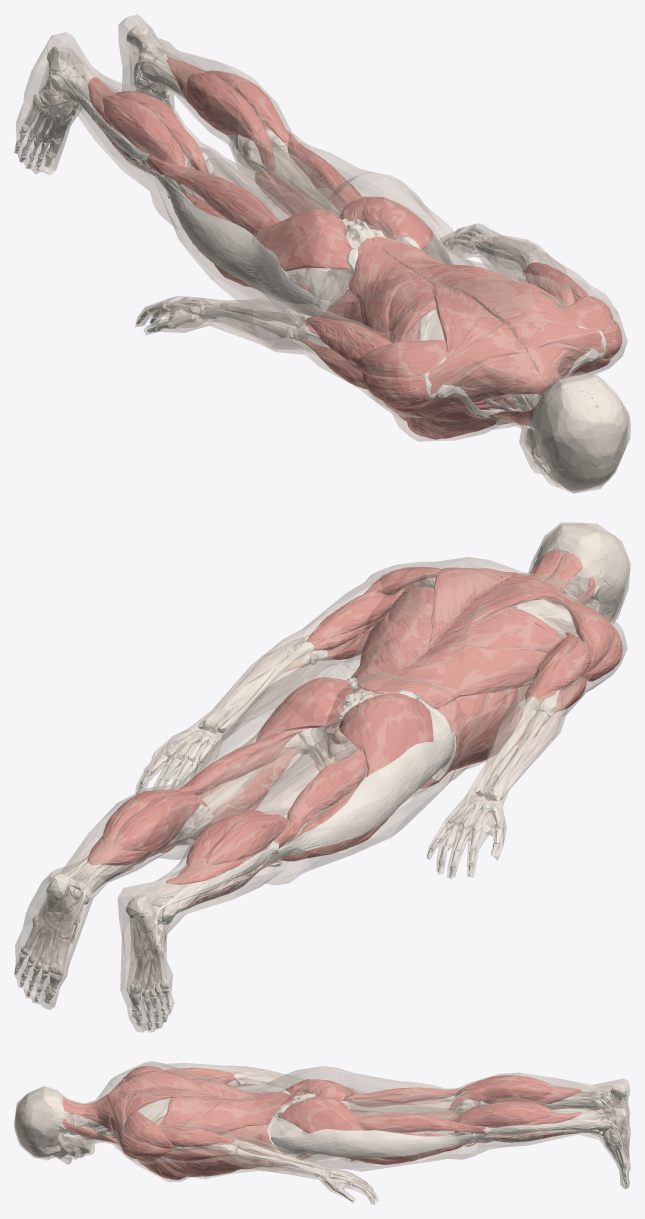
The model's file is body.glb.
3 views of the same model, one above another, from view 1: azimuth 30°, elevation 25°; view 2: azimuth 150°, elevation 25°; view 3: azimuth 270°, elevation 25° (orthographic). The views are drawn at different scales.
Parts seen in each view (by area): view 1: context__skin, context__skeleton, respiration__muscle-leg, respiration__muscle-trunk, respiration__muscle-arm, respiration__muscle-abdomen; view 2: context__skin, context__skeleton, respiration__muscle-leg, respiration__muscle-trunk, respiration__muscle-arm, respiration__muscle-abdomen; view 3: context__skin, context__skeleton, respiration__muscle-leg, respiration__muscle-trunk, respiration__muscle-arm, respiration__muscle-abdomen.
Part boxes in pixels (x1,y1,x2,y2): context__skin: (14, 14, 630, 493); context__skeleton: (15, 25, 627, 490); respiration__muscle-leg: (72, 59, 433, 292); respiration__muscle-trunk: (348, 236, 604, 439); respiration__muscle-arm: (300, 262, 622, 413); respiration__muscle-abdomen: (320, 289, 396, 413); context__skin: (14, 522, 630, 1032); context__skeleton: (14, 525, 628, 1029); respiration__muscle-leg: (70, 677, 433, 957); respiration__muscle-trunk: (353, 549, 595, 745); respiration__muscle-arm: (286, 566, 622, 712); respiration__muscle-abdomen: (314, 666, 535, 788); context__skin: (14, 1061, 630, 1204); context__skeleton: (15, 1073, 627, 1203); respiration__muscle-leg: (278, 1075, 602, 1164); respiration__muscle-trunk: (62, 1071, 294, 1179); respiration__muscle-arm: (118, 1066, 250, 1160); respiration__muscle-abdomen: (171, 1125, 315, 1176).
Size of the model in its own units: 658 by 285 by 1655.
